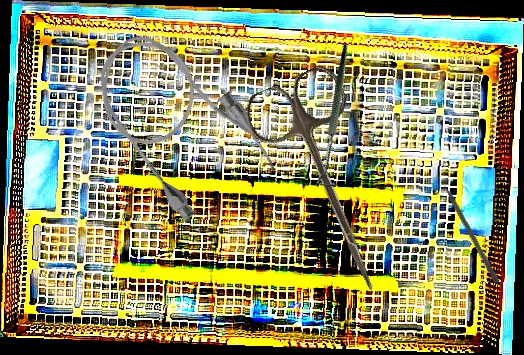Cannula: (72, 8, 286, 234)
Hook Surgical: (266, 42, 410, 194)
Iris Scissors: (237, 60, 423, 309)
Pusher: (436, 170, 501, 285)
